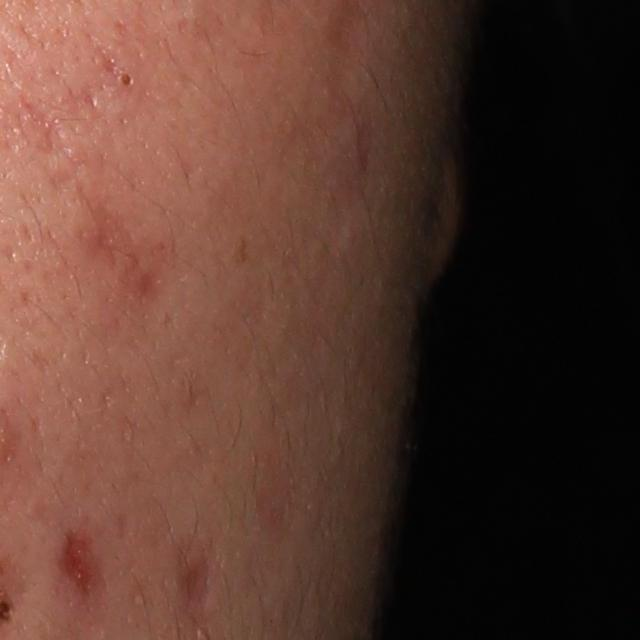atrophic_scar: (77, 198, 174, 318), (55, 510, 113, 616), (6, 90, 100, 154), (169, 544, 215, 611)
comedo: (117, 68, 136, 90)
